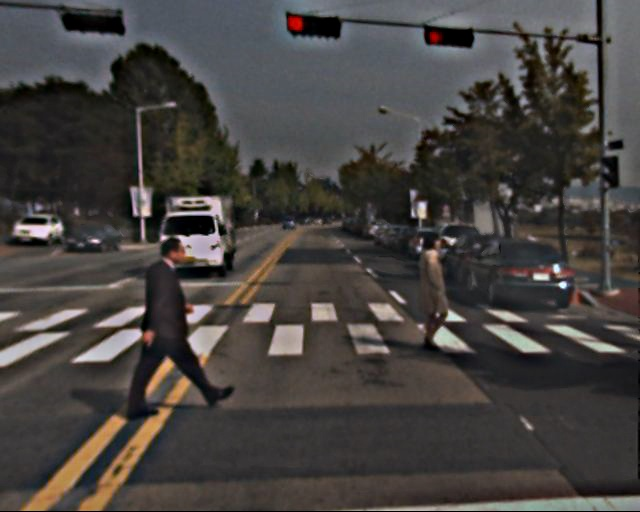person: (130, 237, 204, 418), (407, 233, 457, 354)
